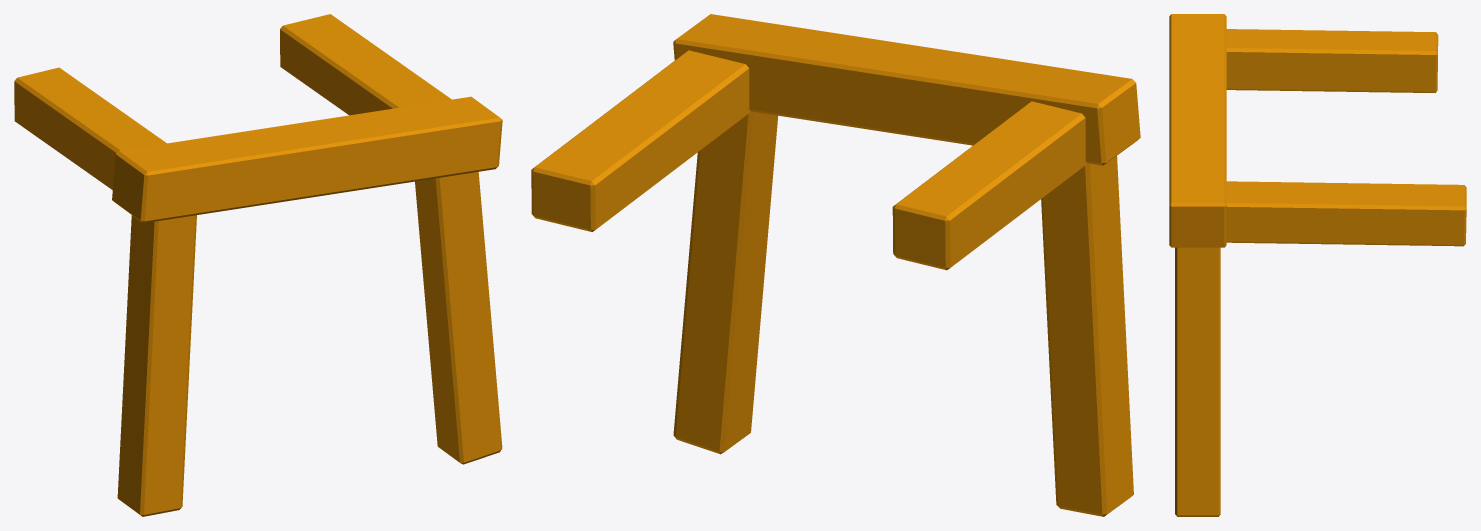
Rendered from Mine.fbx.
3 renders of one model, left to right at view 1: azimuth 30°, elevation 25°; view 2: azimuth 150°, elevation 25°; view 3: azimuth 270°, elevation 25°, orthographic. The views are drawn at different scales.
Visible parts, largest first — view 1: Cube.005; view 2: Cube.005; view 3: Cube.005.
Part boxes in pixels (box(x1,y1,x2,y2)): Cube.005: box(14, 14, 502, 516); Cube.005: box(531, 14, 1140, 516); Cube.005: box(1169, 14, 1466, 516).
Size of the model in its own units: 373 by 364 by 284.
